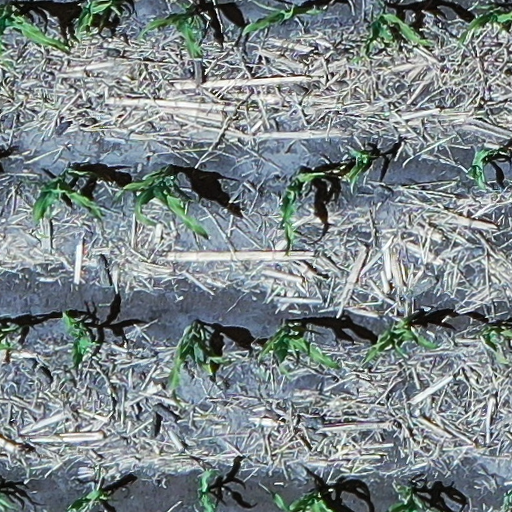planta: (116, 171, 207, 236), (346, 11, 430, 62), (259, 327, 339, 380), (167, 327, 229, 390), (32, 168, 103, 222), (363, 317, 436, 361), (280, 171, 320, 245), (139, 11, 202, 57), (242, 6, 320, 34), (62, 312, 95, 367), (468, 148, 497, 188), (347, 148, 369, 184)
